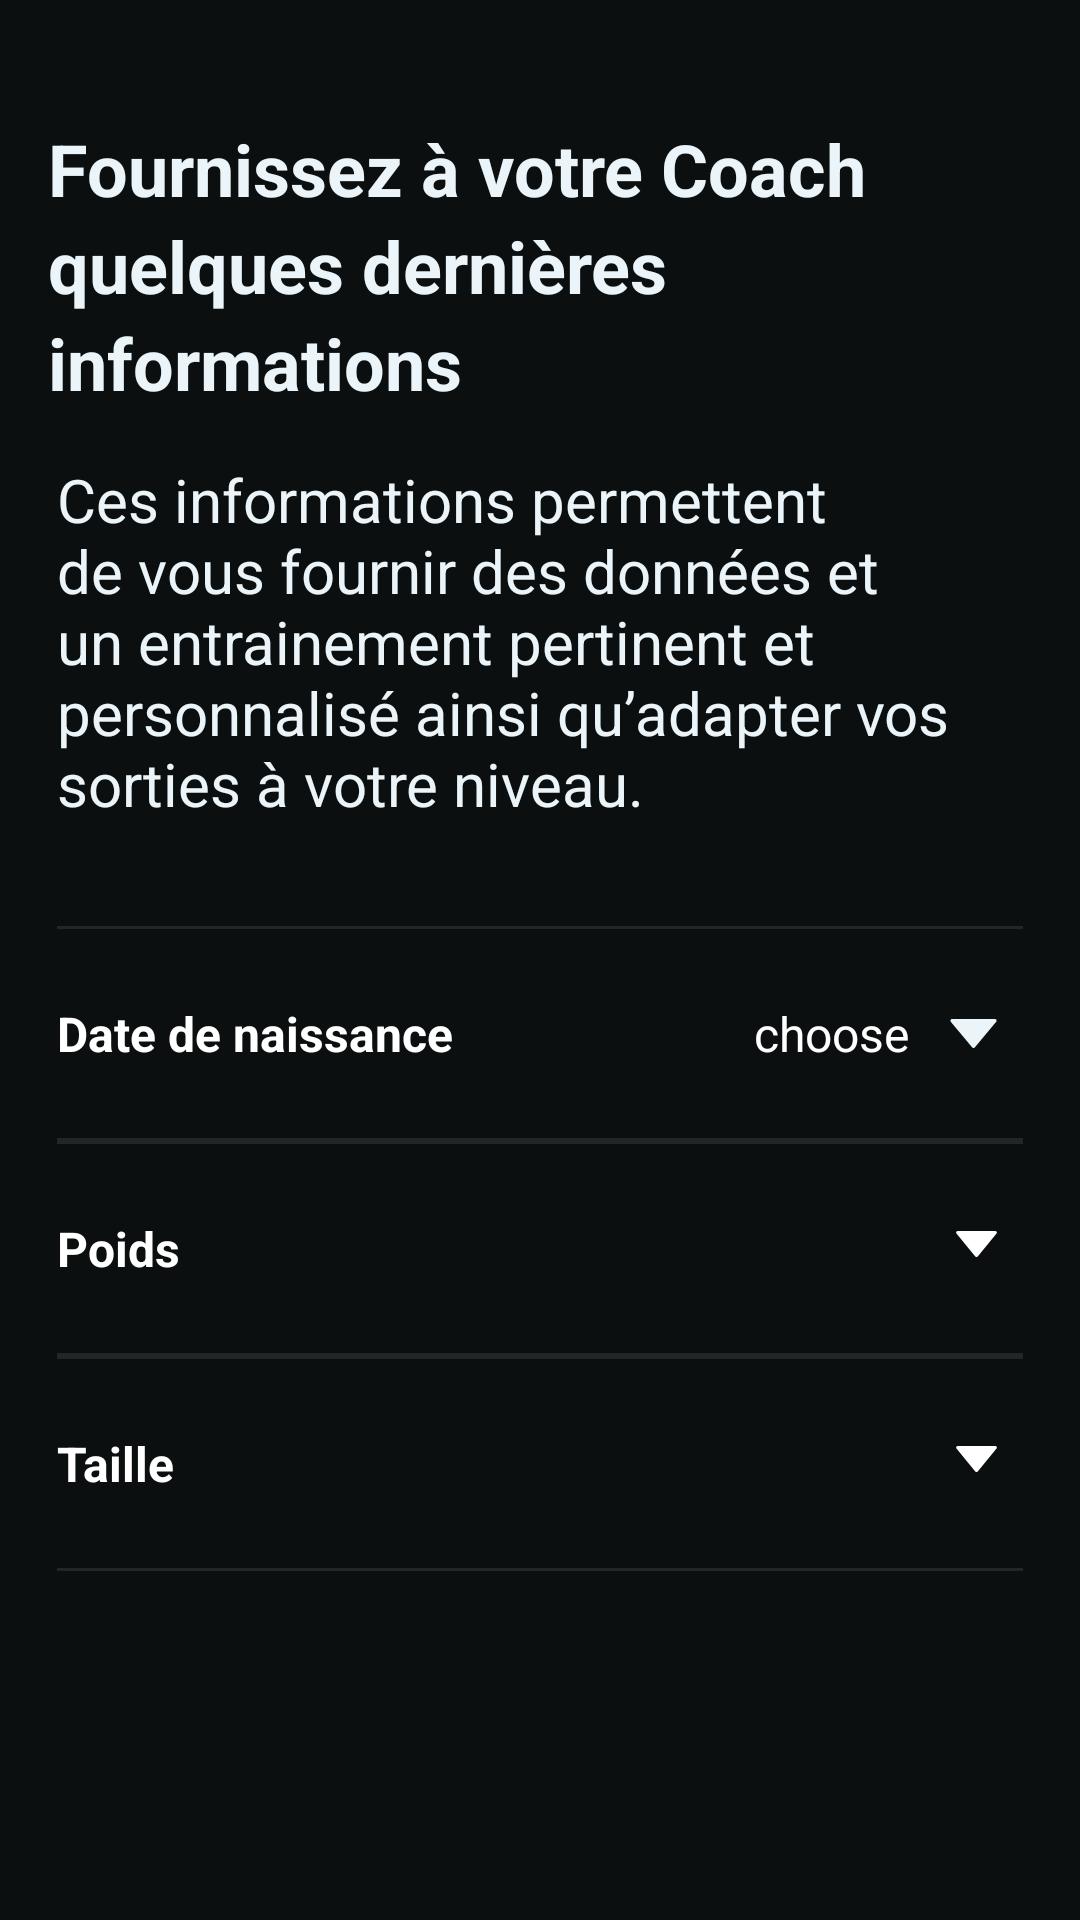

Where icons sit on this 1080*1920 app screen, as (x1, y1, x2, y2):
arrow down: (950, 1019, 997, 1048)
